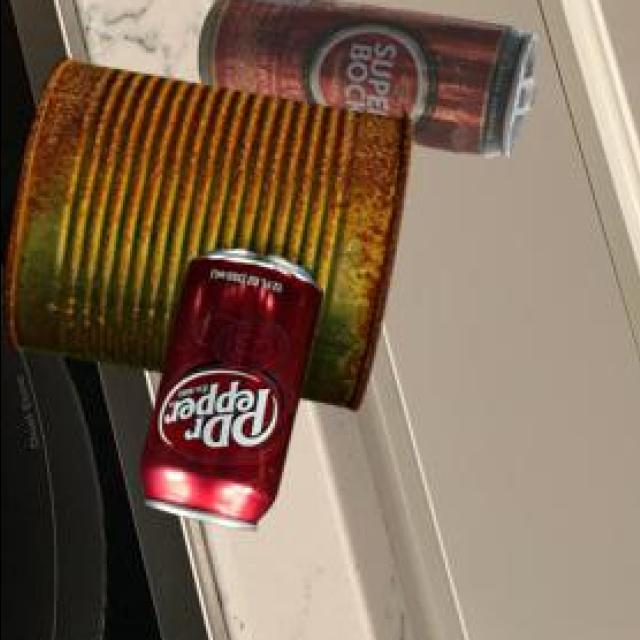logam: (0, 63, 409, 413), (195, 0, 533, 160), (137, 252, 319, 532)
